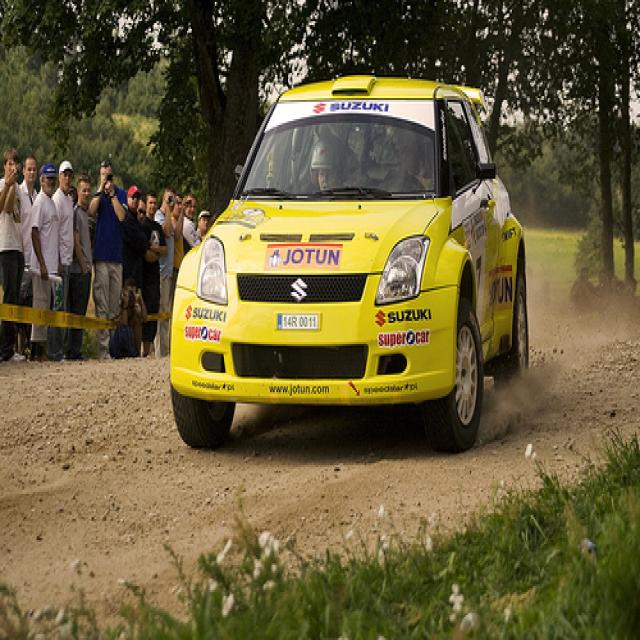light_vehicle: (166, 77, 530, 448)
